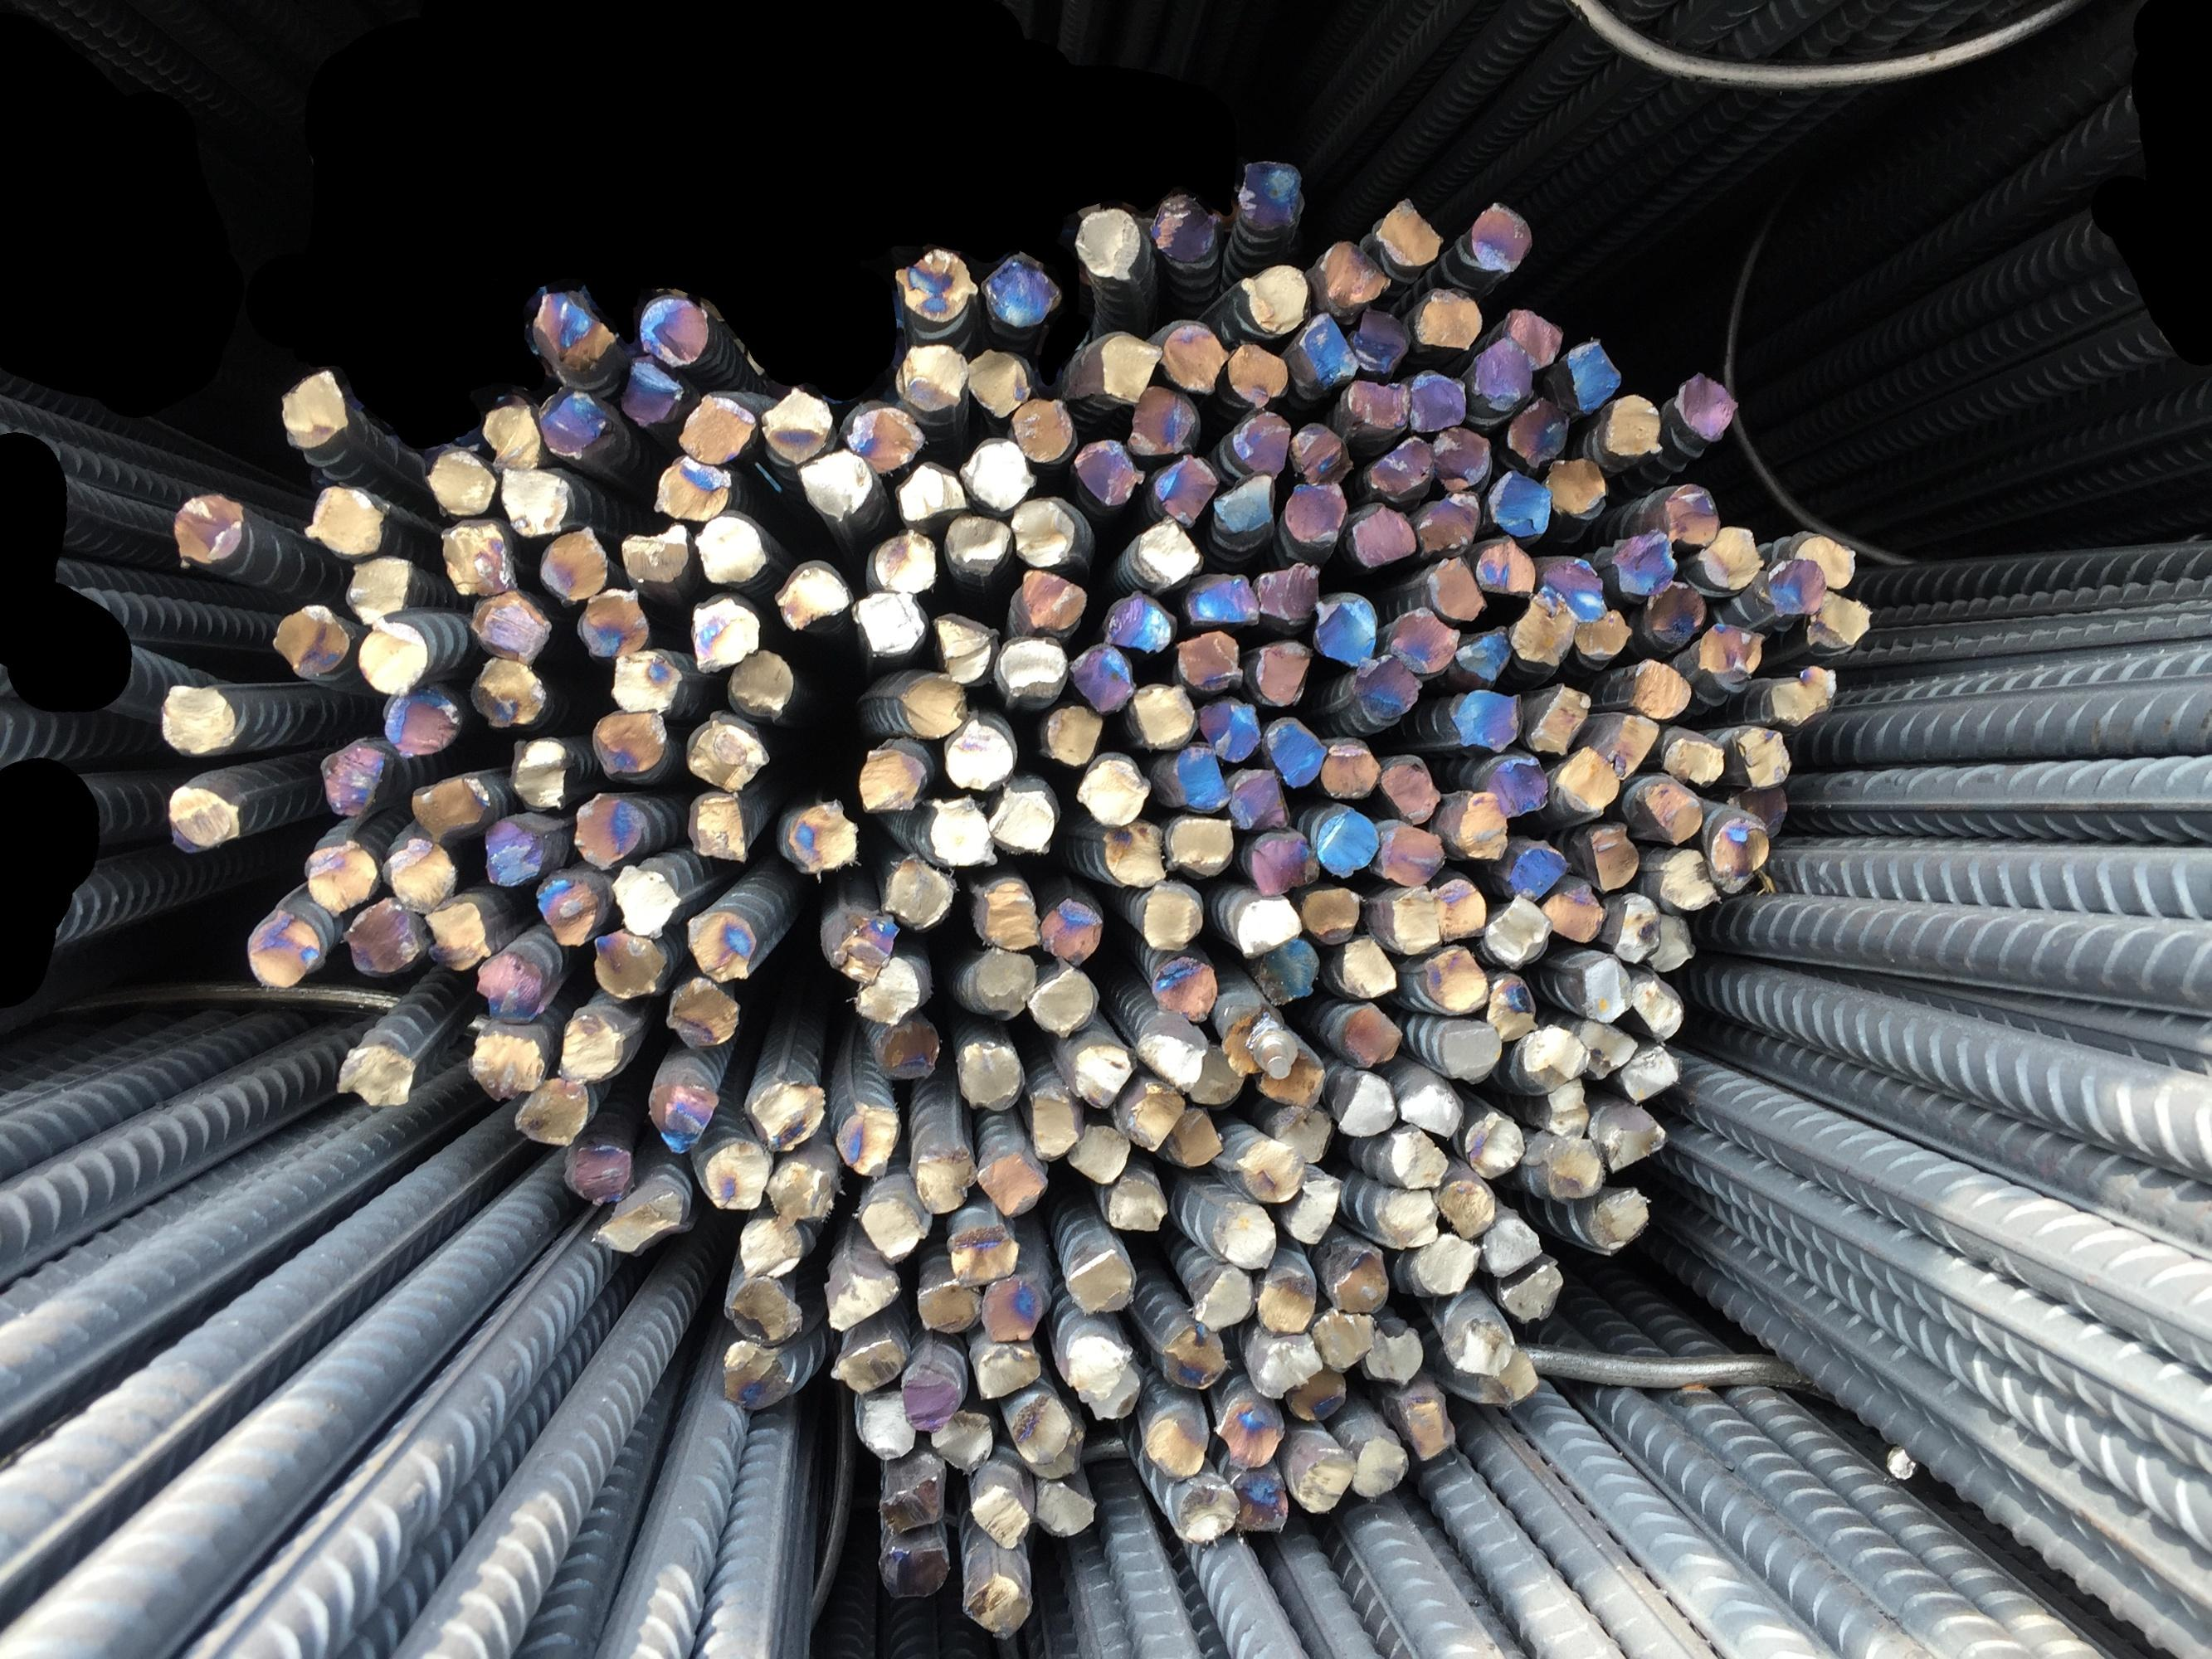bar: (532, 286, 617, 378), (587, 1175, 690, 1251), (274, 366, 357, 460), (1067, 328, 1163, 406), (342, 894, 431, 978), (244, 899, 326, 990), (157, 680, 249, 760), (354, 608, 438, 695), (683, 709, 772, 791), (465, 655, 560, 732), (892, 244, 980, 326), (300, 479, 390, 558), (467, 587, 558, 666), (438, 518, 528, 596), (162, 774, 248, 854), (1051, 1028, 1137, 1108), (380, 828, 458, 915), (169, 490, 251, 572), (270, 601, 352, 683), (300, 831, 382, 913), (873, 850, 955, 932), (572, 786, 652, 870), (795, 450, 879, 530), (410, 769, 495, 847), (774, 554, 854, 636), (743, 1070, 824, 1150), (675, 387, 758, 465), (838, 397, 926, 472), (818, 903, 898, 983), (981, 251, 1062, 331), (821, 1253, 903, 1331), (959, 432, 1037, 514), (467, 1025, 551, 1101), (772, 798, 856, 875), (987, 769, 1062, 854), (420, 441, 500, 519), (535, 383, 615, 462), (316, 737, 392, 819), (692, 505, 769, 587), (650, 453, 743, 521), (474, 950, 558, 1025), (953, 948, 1037, 1023), (689, 587, 762, 673), (966, 864, 1039, 950), (1009, 495, 1095, 568), (1311, 240, 1391, 317), (647, 1072, 722, 1154), (1027, 955, 1102, 1037), (943, 709, 1018, 791), (1072, 206, 1147, 288), (587, 709, 671, 782), (976, 1138, 1049, 1222), (335, 1033, 420, 1105), (695, 1133, 772, 1211), (762, 1145, 838, 1223), (424, 890, 499, 971), (849, 950, 931, 1023), (758, 383, 831, 465), (378, 688, 464, 758), (511, 1075, 596, 1145), (854, 1188, 931, 1265), (535, 525, 610, 603), (617, 352, 695, 427), (851, 587, 929, 662), (1363, 197, 1442, 272), (1074, 751, 1152, 826), (1133, 1012, 1208, 1091), (556, 1009, 638, 1080), (884, 667, 967, 737), (931, 606, 1001, 690), (683, 906, 760, 981), (573, 587, 650, 662), (892, 455, 967, 532), (892, 340, 969, 415), (1069, 434, 1145, 509), (1234, 263, 1311, 338), (1457, 200, 1532, 277), (1628, 770, 1703, 847), (610, 859, 683, 938), (1124, 385, 1203, 458), (720, 1338, 800, 1410), (1290, 310, 1360, 392), (1506, 591, 1576, 673), (1236, 159, 1304, 242), (1466, 336, 1534, 420), (1039, 880, 1103, 967), (1705, 809, 1769, 896), (638, 291, 713, 366), (960, 1565, 1035, 1640), (995, 633, 1069, 709), (1128, 514, 1204, 587), (591, 929, 669, 1000), (723, 1272, 802, 1344), (833, 1100, 903, 1180), (955, 1033, 1025, 1114), (1150, 195, 1224, 270), (1154, 317, 1227, 392), (1145, 453, 1218, 528), (1110, 1079, 1184, 1154), (507, 735, 579, 812), (725, 648, 797, 725), (1091, 1161, 1168, 1232), (920, 798, 997, 870), (1604, 528, 1680, 599), (1211, 1392, 1283, 1469), (1668, 369, 1738, 448), (1006, 570, 1088, 636), (1382, 606, 1455, 680), (685, 791, 760, 863), (736, 1209, 814, 1277), (910, 1136, 978, 1215), (535, 864, 601, 945), (1555, 335, 1621, 415), (1640, 481, 1720, 547), (1459, 1345, 1541, 1410), (1063, 1243, 1137, 1314), (1691, 622, 1762, 695), (1206, 1197, 1278, 1270), (967, 1474, 1037, 1549), (858, 741, 933, 810), (1140, 1405, 1210, 1480), (1483, 894, 1551, 971), (1023, 1077, 1084, 1162), (859, 528, 938, 594), (1510, 1025, 1590, 1089), (343, 554, 415, 626), (622, 521, 694, 592), (1156, 1319, 1227, 1391), (666, 976, 739, 1046), (499, 465, 572, 535), (877, 1462, 947, 1535), (1056, 1326, 1131, 1394), (1551, 744, 1619, 819), (1091, 819, 1166, 887), (1069, 640, 1135, 716), (1210, 469, 1276, 545), (1424, 1018, 1501, 1084), (1525, 680, 1590, 758), (1245, 1333, 1323, 1398), (1313, 589, 1375, 669), (943, 514, 1014, 584), (1412, 284, 1483, 354), (1501, 397, 1572, 467), (1536, 552, 1607, 622), (1349, 655, 1421, 725), (1147, 950, 1217, 1021), (1415, 946, 1487, 1016), (1562, 950, 1632, 1021), (608, 647, 682, 714), (1222, 406, 1290, 479), (1696, 523, 1764, 596), (1802, 587, 1870, 660), (1476, 749, 1550, 817), (945, 1220, 1020, 1286), (1485, 469, 1551, 544), (1262, 714, 1328, 789), (1440, 1310, 1515, 1377), (1327, 1002, 1401, 1068), (1243, 829, 1318, 896), (1593, 1107, 1668, 1173), (966, 345, 1035, 415), (1257, 1039, 1327, 1108), (1250, 934, 1320, 1004), (1309, 805, 1379, 875), (1065, 1114, 1131, 1187), (1281, 481, 1347, 554), (1231, 1136, 1304, 1202), (1433, 1166, 1499, 1239), (1360, 436, 1435, 500), (1222, 892, 1300, 953), (483, 817, 551, 887), (1002, 1394, 1072, 1462), (981, 1276, 1051, 1344), (1396, 1068, 1464, 1138), (1346, 504, 1417, 570), (1288, 1443, 1354, 1514), (1102, 589, 1175, 653), (1633, 580, 1706, 645), (1450, 688, 1523, 753), (1766, 662, 1839, 727), (1544, 455, 1607, 530), (1377, 751, 1440, 826), (1393, 1387, 1455, 1462), (830, 1335, 906, 1396), (863, 1019, 940, 1080), (1283, 1169, 1344, 1246), (913, 1269, 981, 1337), (1414, 490, 1482, 558), (1128, 680, 1196, 748), (1166, 814, 1234, 882), (1034, 702, 1103, 769), (1368, 1187, 1438, 1253), (1584, 1187, 1651, 1256), (1537, 877, 1607, 943), (1776, 532, 1856, 589), (561, 1140, 633, 1204), (1173, 627, 1245, 692), (1347, 1432, 1410, 1506), (1405, 1234, 1478, 1297), (1532, 1136, 1605, 1199), (1462, 1103, 1523, 1178), (1182, 572, 1260, 629), (851, 1389, 917, 1457), (1009, 396, 1077, 462), (1286, 418, 1354, 484), (1194, 694, 1260, 762), (1163, 744, 1229, 812), (1137, 884, 1204, 950), (1497, 1258, 1565, 1324), (1618, 1039, 1684, 1107), (1340, 375, 1410, 439), (1755, 559, 1825, 624), (1595, 711, 1659, 781), (1170, 1480, 1239, 1544), (899, 1361, 962, 1432), (1227, 1467, 1290, 1539), (877, 1539, 950, 1600), (969, 1340, 1042, 1401), (1349, 305, 1410, 378), (1253, 559, 1320, 626), (1189, 1262, 1255, 1328), (1330, 1070, 1396, 1136), (1330, 932, 1396, 999), (1020, 1413, 1088, 1478), (1421, 554, 1485, 622), (1157, 1101, 1222, 1169), (1323, 1246, 1388, 1314), (1381, 1124, 1449, 1188), (1377, 819, 1445, 884), (1377, 884, 1442, 951), (1598, 392, 1661, 462), (481, 397, 542, 469), (1452, 788, 1510, 863), (929, 1406, 995, 1471), (1075, 1358, 1142, 1422), (1654, 847, 1719, 913), (1625, 657, 1693, 720), (1361, 1321, 1424, 1389), (1227, 342, 1288, 411), (1320, 732, 1381, 802), (1605, 890, 1661, 965), (1311, 1309, 1375, 1373), (1473, 533, 1536, 599), (1659, 725, 1726, 788), (1724, 779, 1790, 842), (1506, 835, 1569, 901), (1220, 1009, 1283, 1075), (1571, 1018, 1637, 1080), (1250, 638, 1311, 706), (1265, 1103, 1333, 1164), (1187, 1037, 1246, 1107), (1255, 1269, 1314, 1338), (1632, 965, 1686, 1040), (1407, 368, 1469, 432), (1431, 425, 1494, 490), (1494, 307, 1562, 366), (1581, 823, 1639, 892), (1729, 725, 1792, 788), (1480, 1215, 1543, 1277), (1227, 767, 1290, 829), (1452, 622, 1513, 687), (1034, 1478, 1096, 1539), (1283, 1364, 1347, 1424), (1483, 969, 1537, 1039), (1299, 882, 1360, 943), (1431, 873, 1487, 939), (1536, 1075, 1590, 1140), (1572, 610, 1632, 664), (1651, 910, 1698, 974)
